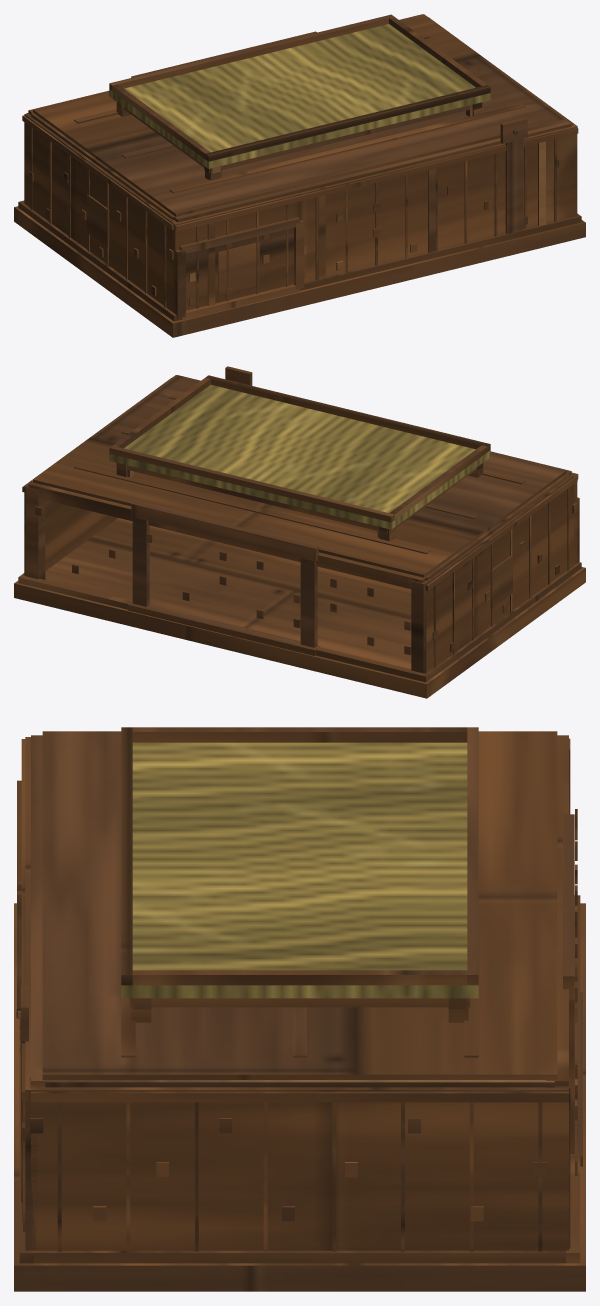
The picture shows the model from 3 angles, top to bottom: view 1: azimuth 30°, elevation 25°; view 2: azimuth 150°, elevation 25°; view 3: azimuth 270°, elevation 25°; orthographic projection. The views are drawn at different scales.
Visible parts, largest first — view 1: SM_HDBF_BoxFarm_Basic_LOD1; view 2: SM_HDBF_BoxFarm_Basic_LOD1; view 3: SM_HDBF_BoxFarm_Basic_LOD1.
Boxes of the visible parts, x1,y1,x2,y2 form: SM_HDBF_BoxFarm_Basic_LOD1: (14,14,585,337); SM_HDBF_BoxFarm_Basic_LOD1: (14,366,585,698); SM_HDBF_BoxFarm_Basic_LOD1: (14,727,585,1291).
Bounding box in the file's own units: 3 × 1 × 2.
Materials: 2 (2 with a texture image).
